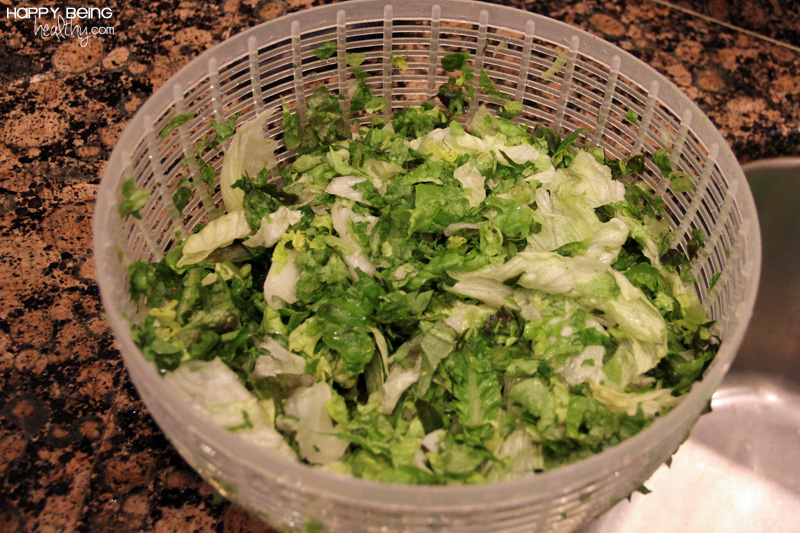chopped lettuce: (206, 120, 657, 474)
